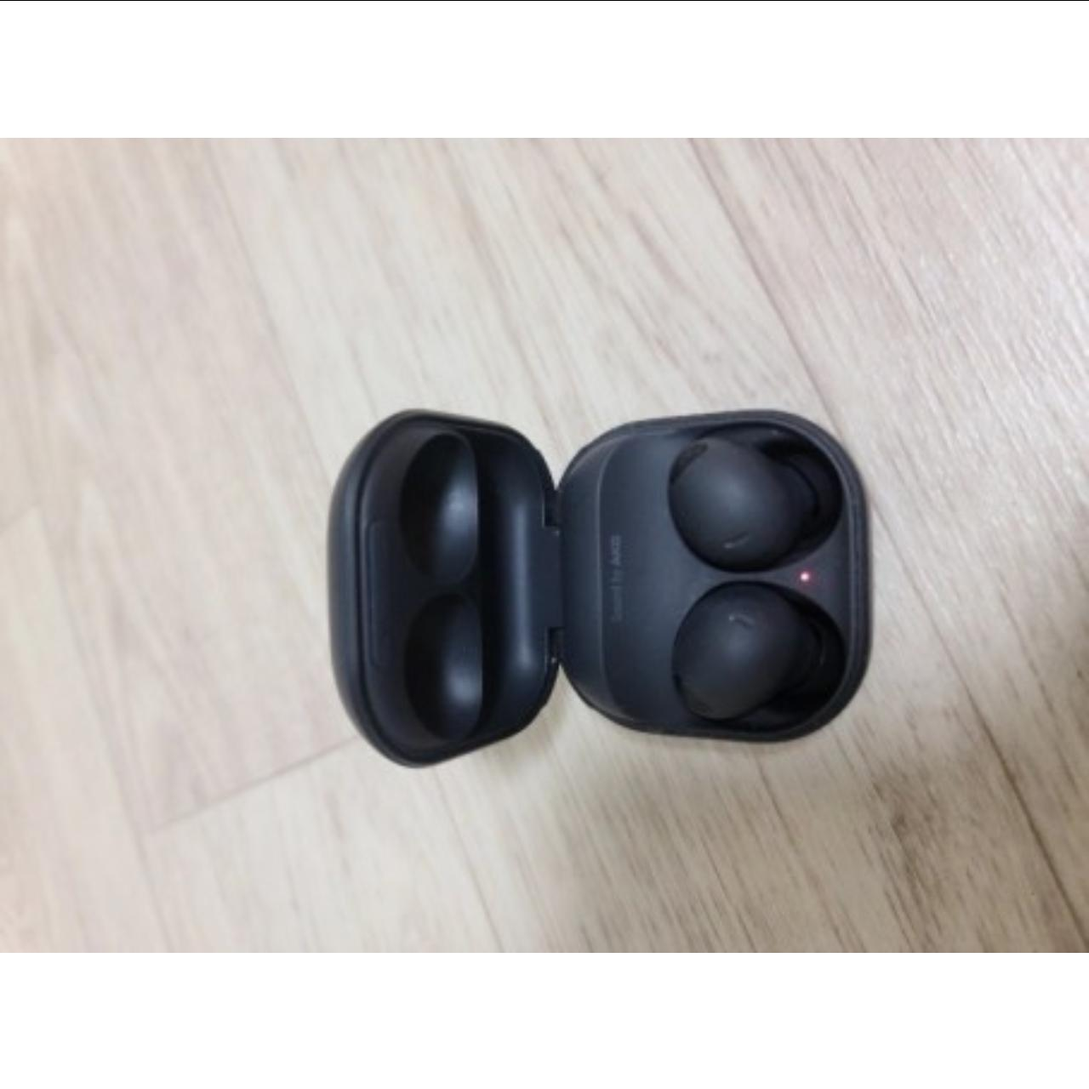Buds: (326, 402, 875, 772)
Buds_Units: (662, 576, 849, 734), (664, 421, 844, 576)
